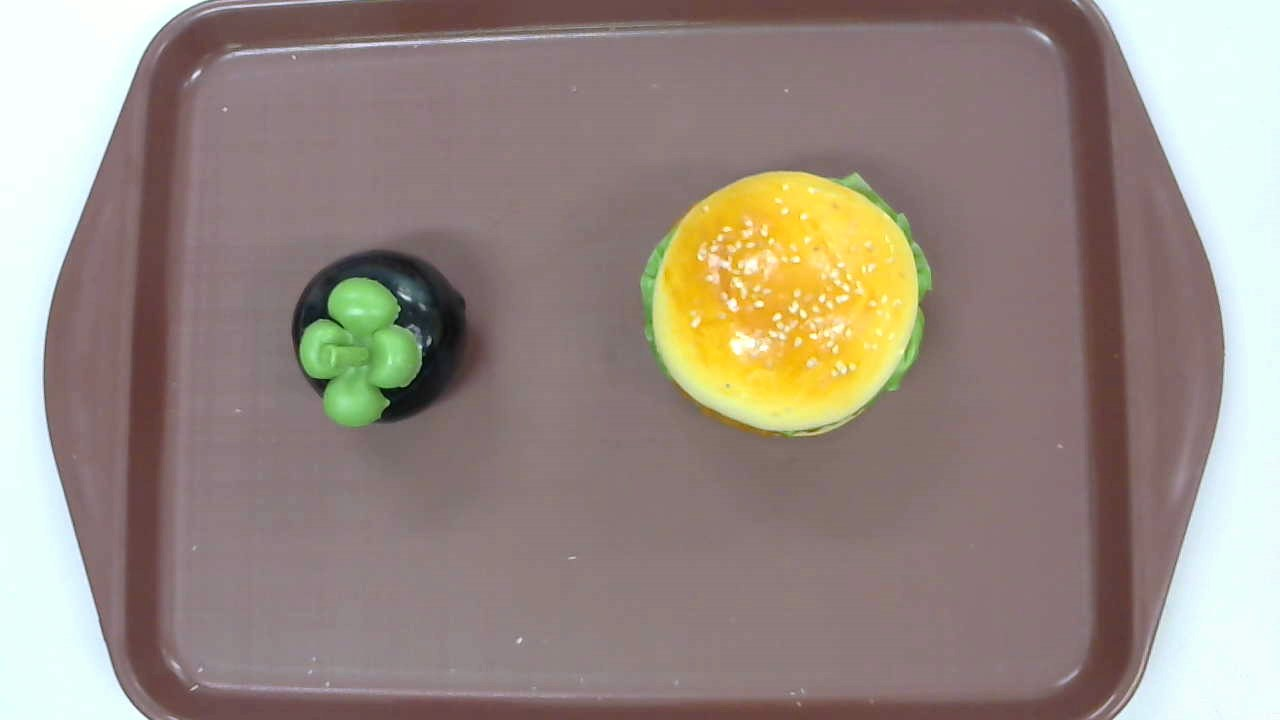hamburger: (639, 169, 935, 439)
mangosteen: (291, 250, 470, 428)
